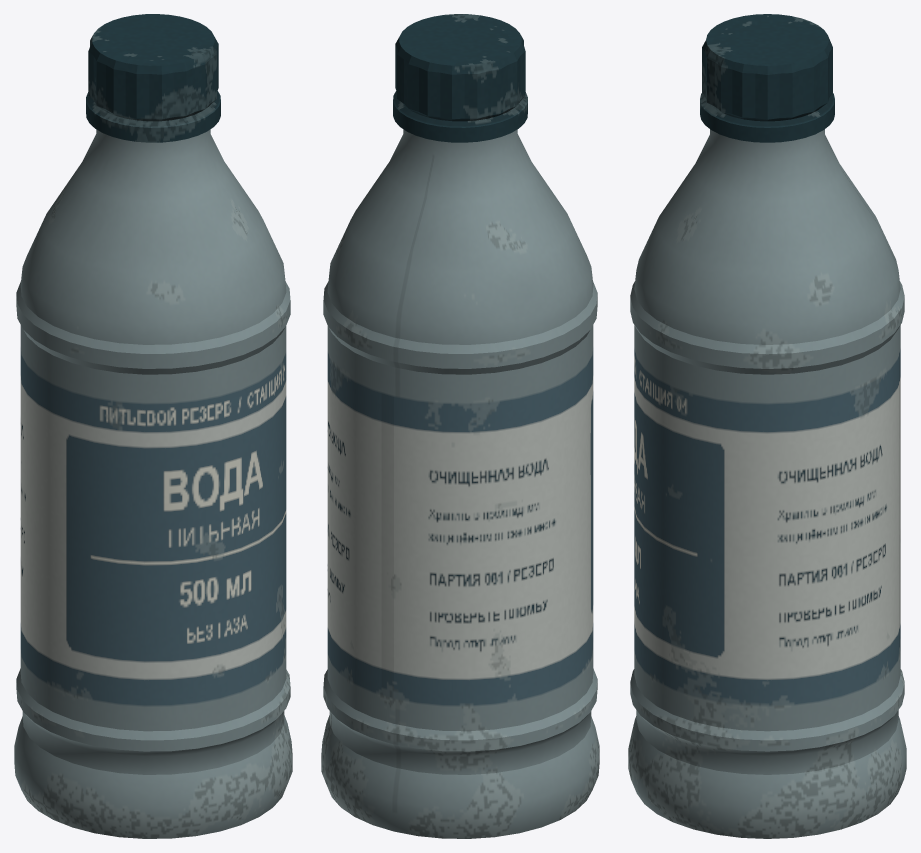
The model's file is water_bottle.glb.
3 views of the same model, side by side, from view 1: azimuth 30°, elevation 25°; view 2: azimuth 150°, elevation 25°; view 3: azimuth 270°, elevation 25° (orthographic).
Visible parts, largest first — view 1: water_bottle_Mesh; view 2: water_bottle_Mesh; view 3: water_bottle_Mesh.
Boxes of the visible parts, x1,y1,x2,y2 form: water_bottle_Mesh: (14, 14, 292, 838); water_bottle_Mesh: (321, 14, 599, 838); water_bottle_Mesh: (628, 14, 906, 838).
Size of what is drawn, in the model's own units: 0.068 by 0.2 by 0.068.
1 material, 1 textured.
